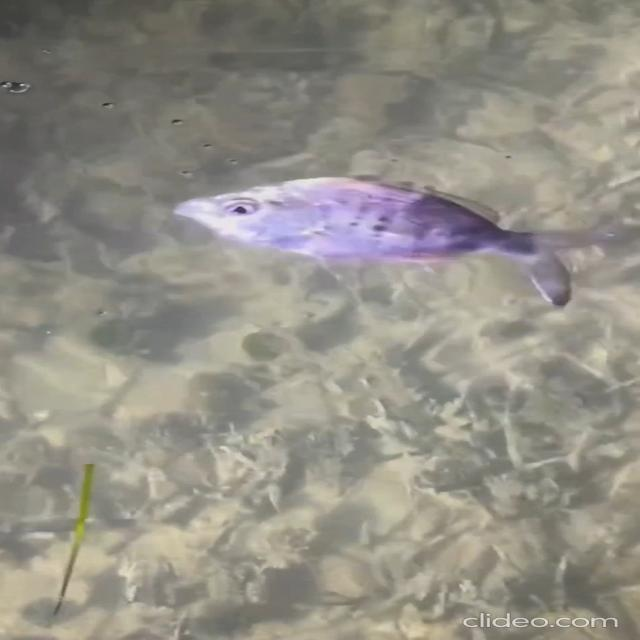fish: (182, 178, 589, 315)
